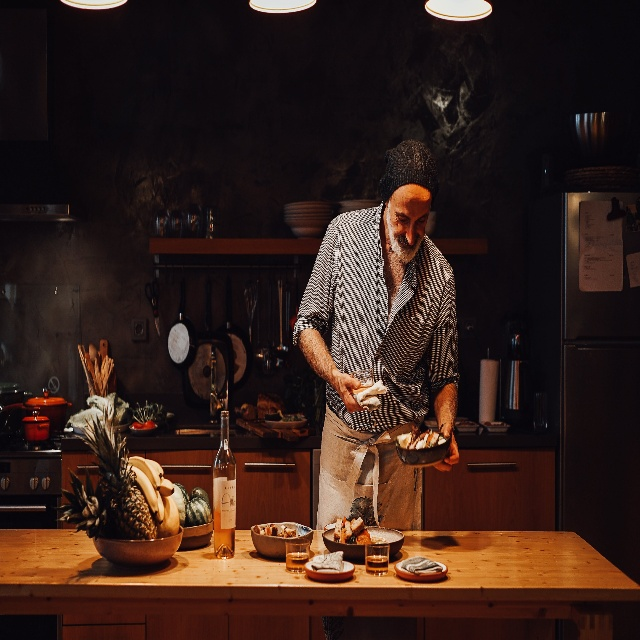Sin_guantes: (432, 422, 461, 472), (339, 374, 367, 413)
